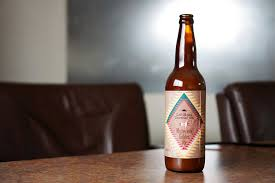beer: (166, 15, 205, 172)
